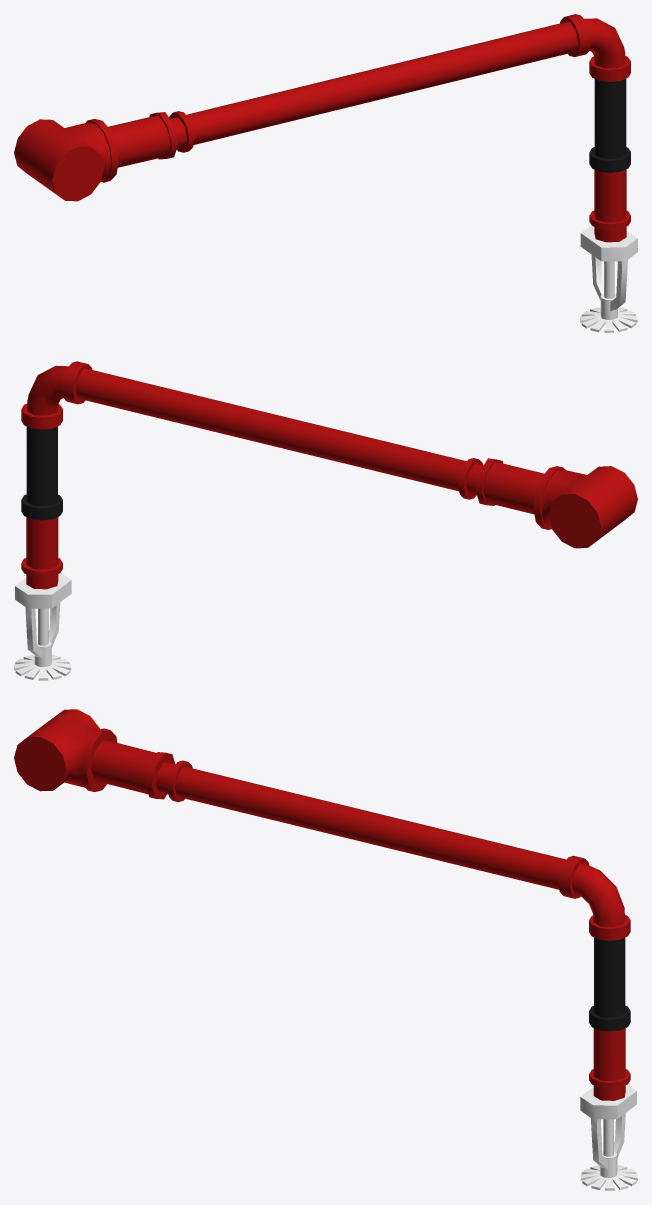
The model's file is SM_H_Building_Tide_Pipeline_01a_ATLAS.fbx.
The picture shows the model from 3 angles, top to bottom: view 1: azimuth 30°, elevation 25°; view 2: azimuth 150°, elevation 25°; view 3: azimuth 330°, elevation 25°; orthographic projection.
Visible parts, largest first — view 1: SM_H_Building_Tide_Pipeline_01a_ATLAS; view 2: SM_H_Building_Tide_Pipeline_01a_ATLAS; view 3: SM_H_Building_Tide_Pipeline_01a_ATLAS.
Boxes of the visible parts, bbox=[...] form: SM_H_Building_Tide_Pipeline_01a_ATLAS: bbox=[14, 14, 637, 332]; SM_H_Building_Tide_Pipeline_01a_ATLAS: bbox=[14, 361, 637, 680]; SM_H_Building_Tide_Pipeline_01a_ATLAS: bbox=[14, 709, 637, 1190].
Size of the model in its own units: 146 by 16.01 by 75.31.
